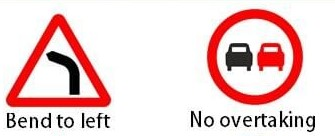Traffic signal: (5, 14, 112, 108), (205, 8, 305, 106)
